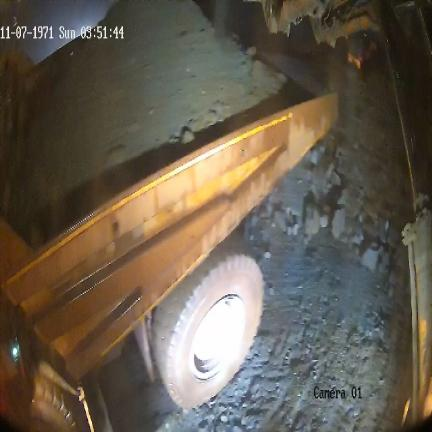pile: (25, 0, 287, 240), (241, 66, 411, 281)
